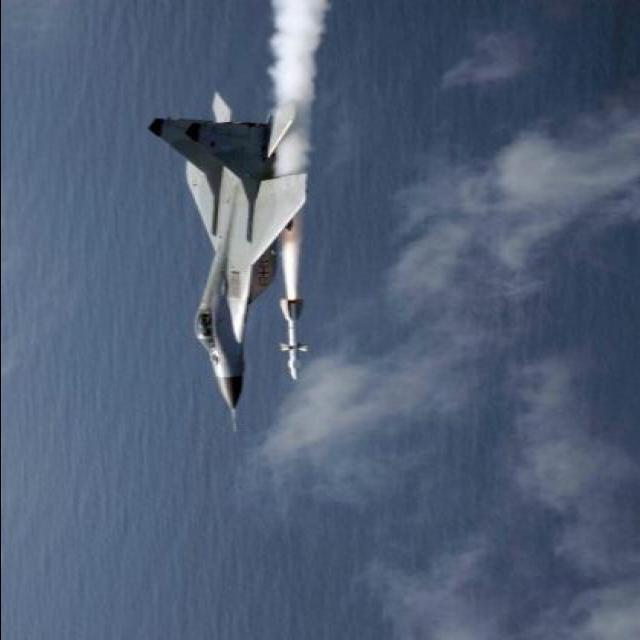missile: (276, 293, 308, 381)
